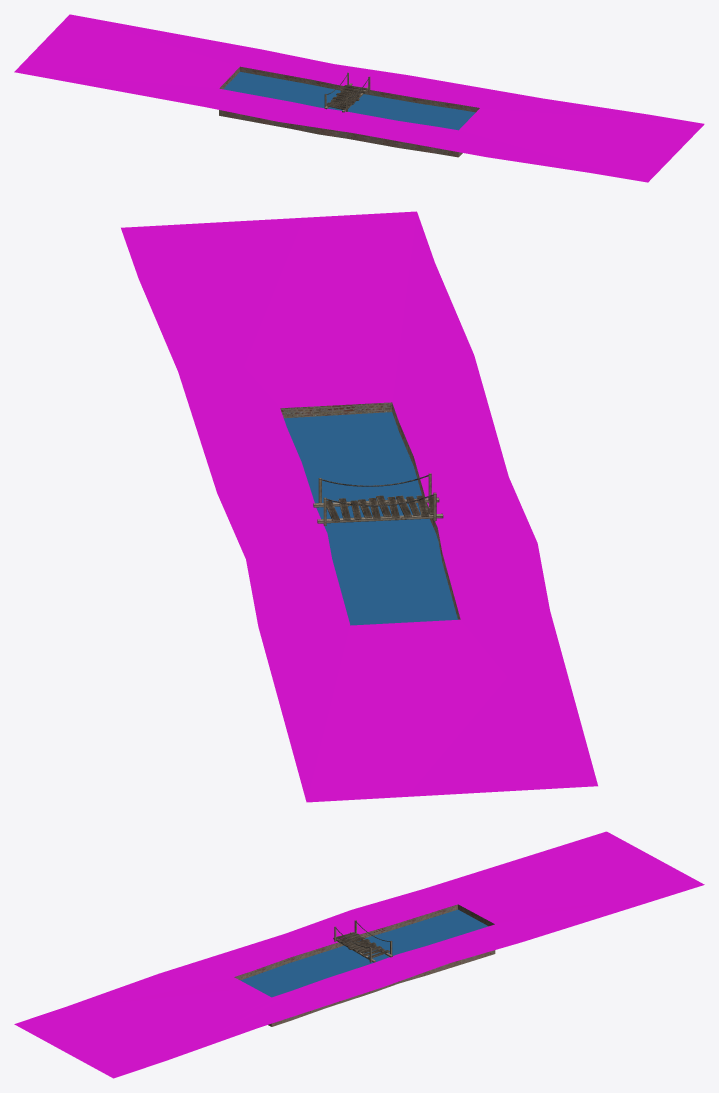
Rendered from naviglio.glb.
3 renders of one model, top to bottom at view 1: azimuth 30°, elevation 25°; view 2: azimuth 150°, elevation 25°; view 3: azimuth 270°, elevation 25°, orthographic. The views are drawn at different scales.
Parts seen in each view (by area): view 1: Maschera_Holdout, Acqua, Acqua_Naviglio, Object_2; view 2: Maschera_Holdout, Acqua, Object_2, Acqua_Naviglio; view 3: Maschera_Holdout, Acqua, Acqua_Naviglio, Object_2.
Boxes of the visible parts, x1,y1,x2,y2 form: Maschera_Holdout: (14,14,704,182); Acqua: (223,72,475,130); Acqua_Naviglio: (219,66,479,157); Object_2: (324,72,370,112); Maschera_Holdout: (121,211,597,802); Acqua: (284,412,457,625); Object_2: (313,473,443,525); Acqua_Naviglio: (280,402,460,619); Maschera_Holdout: (14,831,704,1078); Acqua: (240,909,488,997); Acqua_Naviglio: (234,904,495,1026); Object_2: (333,920,392,962).
Bounding box in the file's own units: 110 × 9.39 × 130.
Materials: 4 (2 with a texture image).
